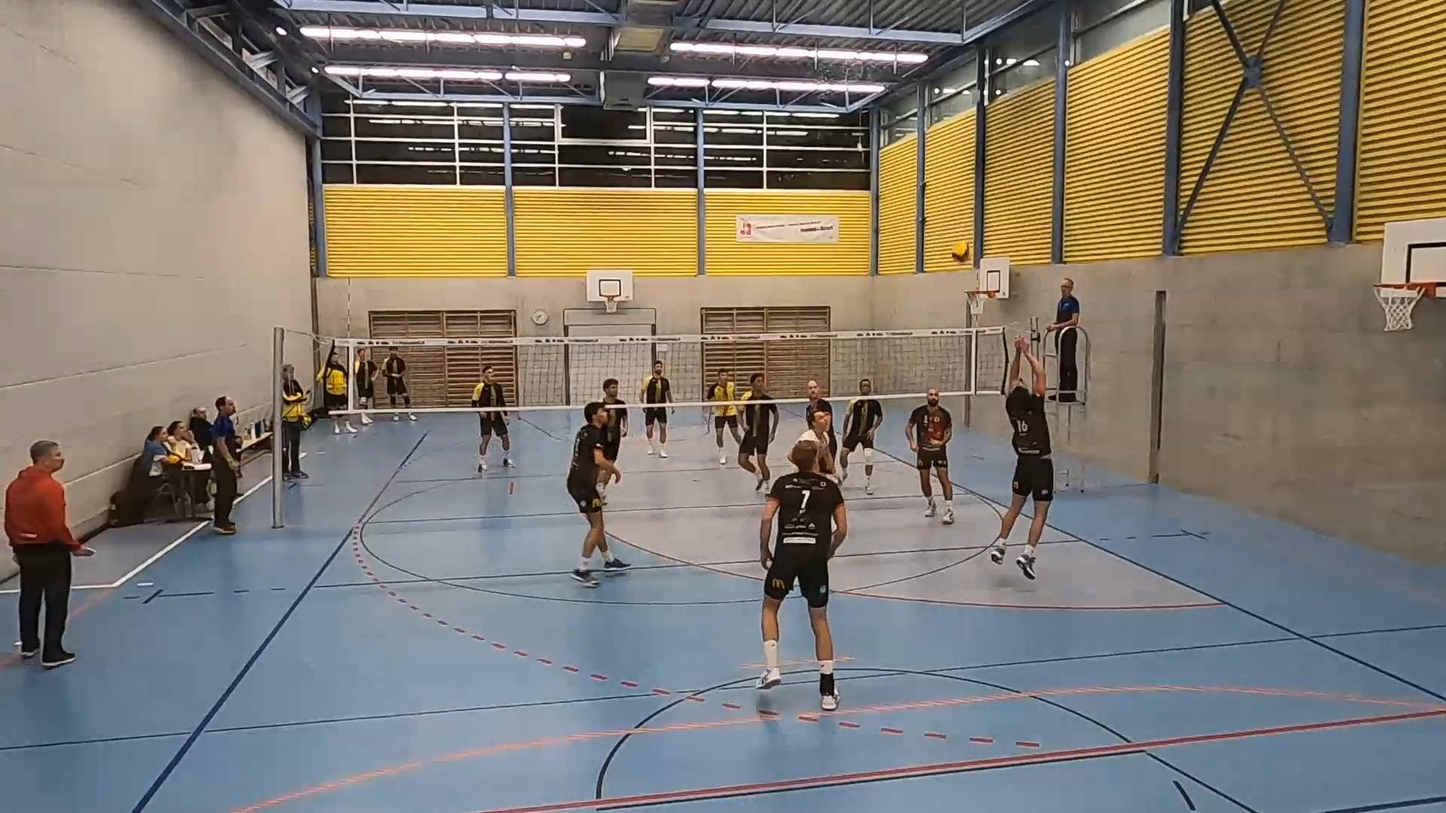alzata: (990, 333, 1054, 584)
